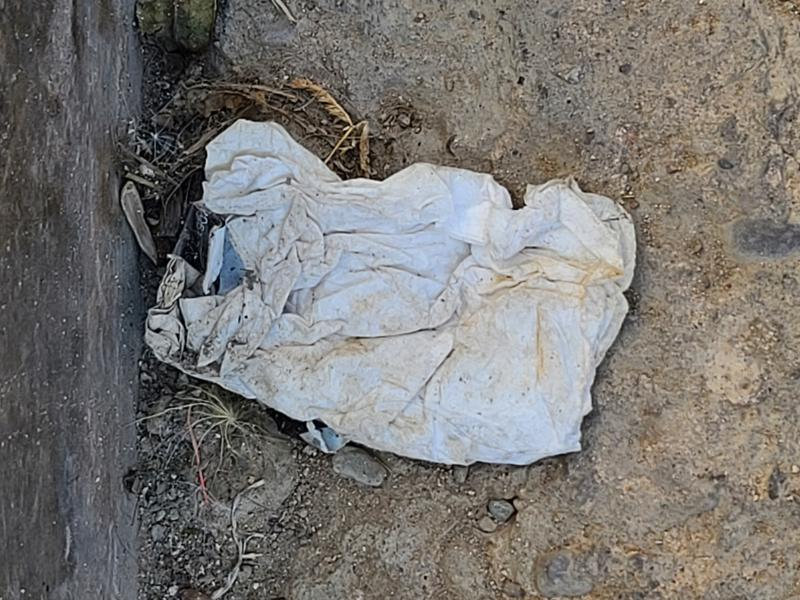papel: (145, 120, 638, 467)
